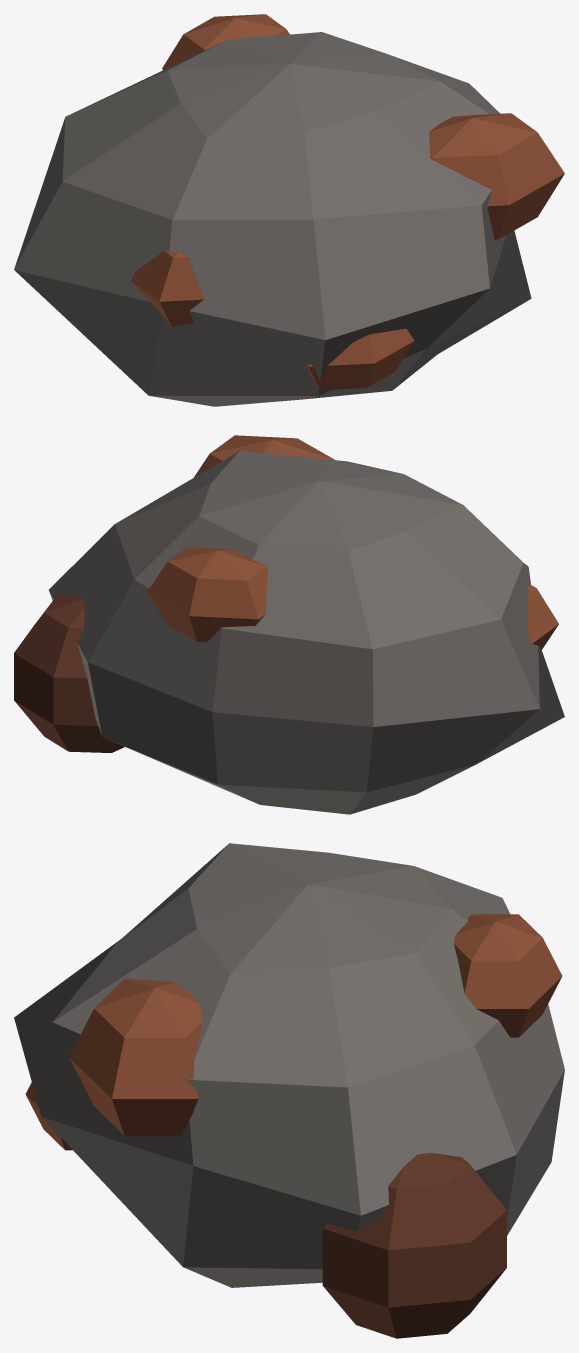
The model's file is ore_rock.glb.
3 views of the same model, one above another, from view 1: azimuth 30°, elevation 25°; view 2: azimuth 150°, elevation 25°; view 3: azimuth 270°, elevation 25° (orthographic). The views are drawn at different scales.
Parts seen in each view (by area): view 1: ore_rock; view 2: ore_rock; view 3: ore_rock.
Part boxes in pixels (box(x1,y1,x2,y2)): ore_rock: box(14, 14, 564, 406); ore_rock: box(14, 435, 564, 814); ore_rock: box(14, 843, 564, 1338).
Size of the model in its own units: 2.02 by 1.1 by 1.62.
